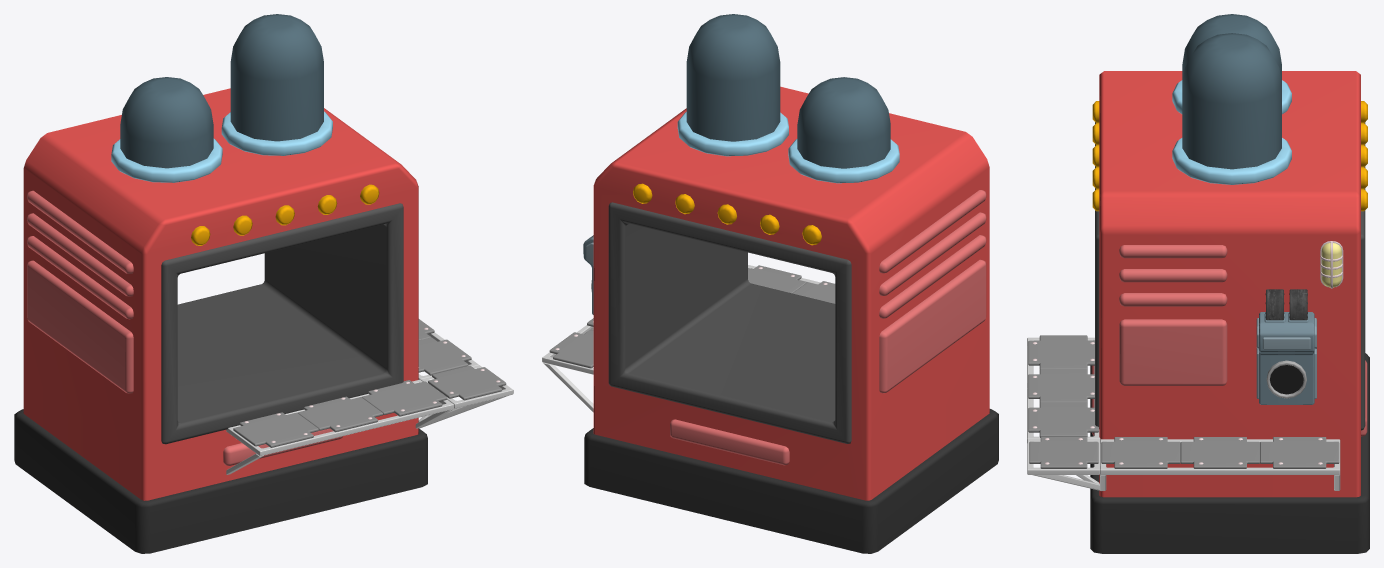
Rendered from obstacle_3_001.fbx.
3 views of the same model, side by side, from view 1: azimuth 30°, elevation 25°; view 2: azimuth 150°, elevation 25°; view 3: azimuth 270°, elevation 25° (orthographic). The views are drawn at different scales.
Parts seen in each view (by area): view 1: obstacle_3_001; view 2: obstacle_3_001; view 3: obstacle_3_001.
Part boxes in pixels (x1,y1,x2,y2): obstacle_3_001: (14, 14, 513, 553); obstacle_3_001: (542, 14, 998, 553); obstacle_3_001: (1027, 14, 1369, 553).
Size of the model in its own units: 2107 by 1702 by 2550.
